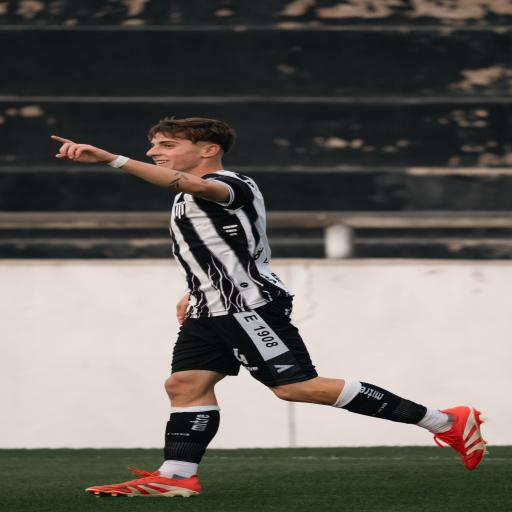shoe: (86, 467, 200, 497), (433, 407, 487, 470)
